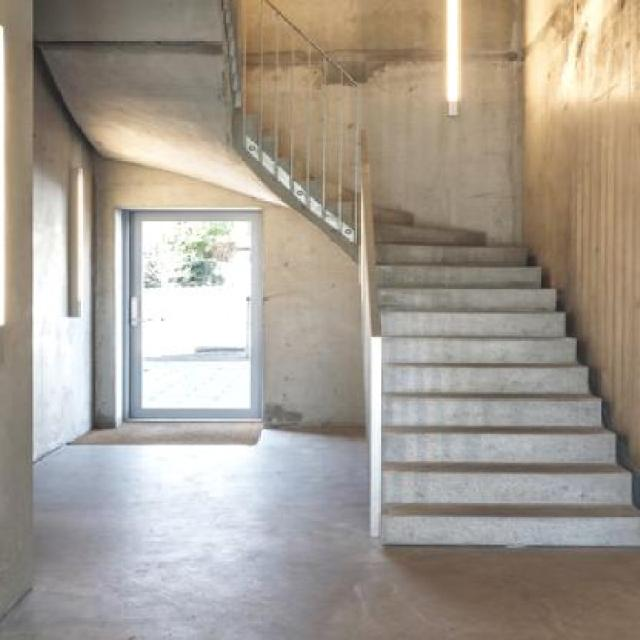stair: (246, 0, 638, 578)
